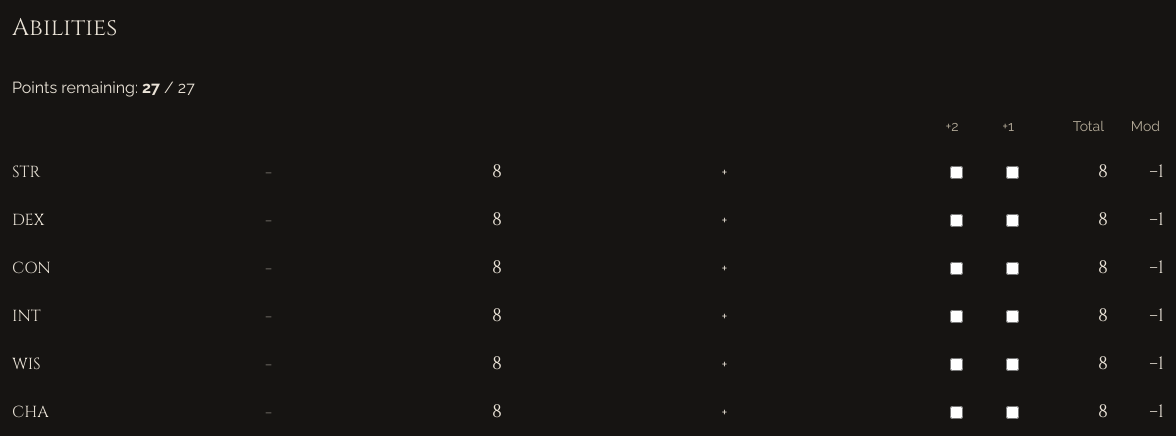
Test: selecting +2 on an ability disables +1 on the same ability
Click the checkbox named "+2 bonus to STR": {"x": 956, "y": 172} left=950, top=166, right=962, bottom=178
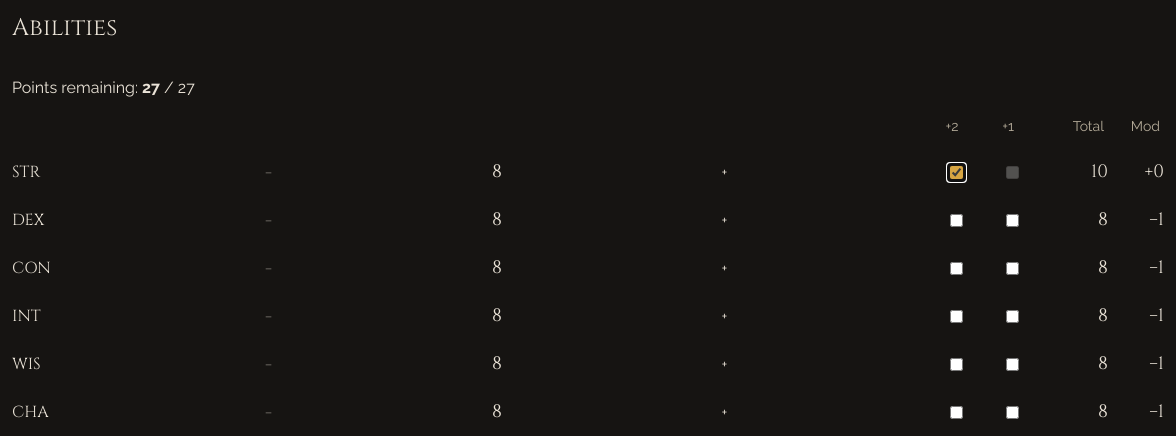
Expected: the checkbox named "+1 bonus to DEX" is enabled, left=1006, top=214, right=1018, bottom=226
Result: the checkbox named "+1 bonus to STR" is disabled at left=1006, top=166, right=1018, bottom=178
